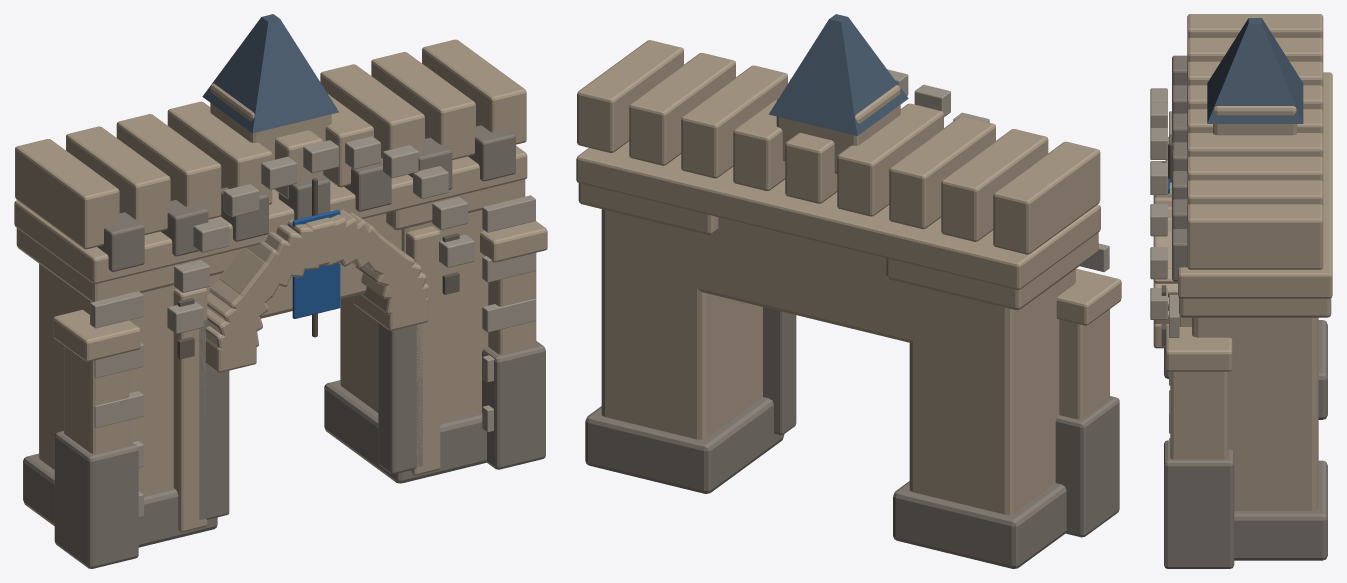
Rendered from Valoria_Gate_LibraryV1.glb.
3 views of the same model, side by side, from view 1: azimuth 30°, elevation 25°; view 2: azimuth 150°, elevation 25°; view 3: azimuth 270°, elevation 25° (orthographic). The views are drawn at different scales.
Parts seen in each view (by area): view 1: Gate pier shaft, Gate pier shaft.001, Gate outer buttress base, Gate upper cornice, Gate slate lantern roof, Gate merlon, Gate outer buttress base.001, Gate inner jamb.001, Gate pier plinth.001, Gate outer jamb, Gate outer jamb.001, Gate merlon.001 (+59 smaller); view 2: Gate pier shaft, Gate pier shaft.001, Gate upper cornice, Gate bridge, Gate pier plinth.001, Gate pier plinth, Gate slate lantern roof, Gate merlon, Gate outer buttress base, Gate merlon.001, Gate merlon.008, Gate merlon.002 (+12 smaller); view 3: Gate pier shaft.001, Gate merlon.008, Gate outer buttress base.001, Gate slate lantern roof, Gate upper cornice, Gate pier plinth.001, Gate outer buttress shaft.001, Gate merlon.006, Gate merlon.007, Gate merlon.005, Gate pier capital.001, Gate merlon (+23 smaller).
Part boxes in pixels (left/top/right/bottom): Gate pier shaft: left=39, top=264, right=176, bottom=494; Gate pier shaft.001: left=340, top=210, right=488, bottom=422; Gate outer buttress base: left=54, top=431, right=138, bottom=568; Gate upper cornice: left=14, top=146, right=527, bottom=283; Gate slate lantern roof: left=202, top=14, right=338, bottom=133; Gate merlon: left=15, top=139, right=119, bottom=249; Gate outer buttress base.001: left=482, top=341, right=545, bottom=469; Gate inner jamb.001: left=378, top=323, right=422, bottom=474; Gate pier plinth.001: left=324, top=380, right=486, bottom=483; Gate outer jamb: left=173, top=287, right=207, bottom=532; Gate outer jamb.001: left=406, top=226, right=440, bottom=475; Gate merlon.001: left=66, top=126, right=170, bottom=234; Gate pier shaft: left=909, top=269, right=1075, bottom=514; Gate pier shaft.001: left=601, top=209, right=762, bottom=439; Gate upper cornice: left=576, top=141, right=1100, bottom=289; Gate bridge: left=696, top=217, right=913, bottom=342; Gate pier plinth.001: left=585, top=397, right=784, bottom=493; Gate pier plinth: left=893, top=481, right=1066, bottom=568; Gate slate lantern roof: left=768, top=14, right=908, bottom=135; Gate merlon: left=993, top=141, right=1100, bottom=254; Gate outer buttress base: left=1055, top=396, right=1119, bottom=537; Gate merlon.001: left=941, top=129, right=1048, bottom=241; Gate merlon.008: left=577, top=40, right=683, bottom=152; Gate merlon.002: left=889, top=116, right=995, bottom=229; Gate pier shaft.001: left=1192, top=317, right=1318, bottom=510; Gate merlon.008: left=1187, top=204, right=1323, bottom=269; Gate outer buttress base.001: left=1164, top=440, right=1234, bottom=568; Gate slate lantern roof: left=1207, top=18, right=1303, bottom=123; Gate upper cornice: left=1178, top=72, right=1332, bottom=298; Gate pier plinth.001: left=1234, top=460, right=1327, bottom=560; Gate outer buttress shaft.001: left=1170, top=371, right=1227, bottom=459; Gate merlon.006: left=1187, top=156, right=1323, bottom=182; Gate merlon.007: left=1187, top=180, right=1323, bottom=206; Gate merlon.005: left=1187, top=133, right=1323, bottom=158; Gate pier capital.001: left=1179, top=298, right=1331, bottom=317; Gate merlon: left=1187, top=14, right=1323, bottom=39.
Size of the model in its own units: 4.36 by 4.17 by 1.56.
